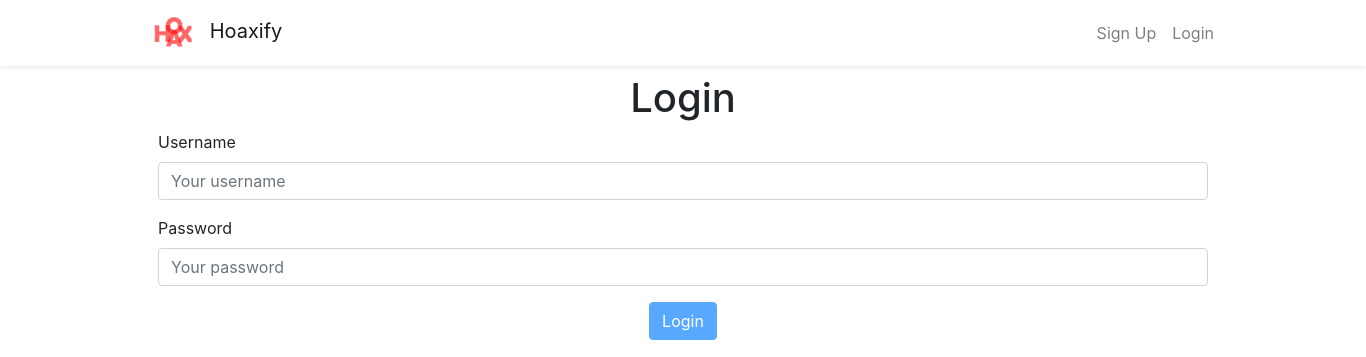
Test: App › shows the HomePage when clicking the logo
This screenshot has width=1366, height=357.
Click the picture named "Hoaxify" at x=174, y=33, box [144,13,204,53]
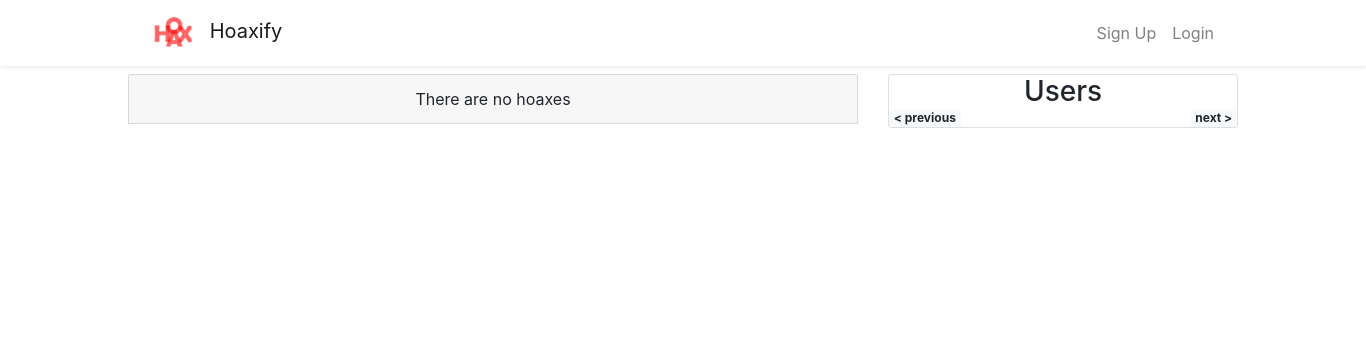
Result: the element with test id "homepage" is shown at [128,74,1238,128]
